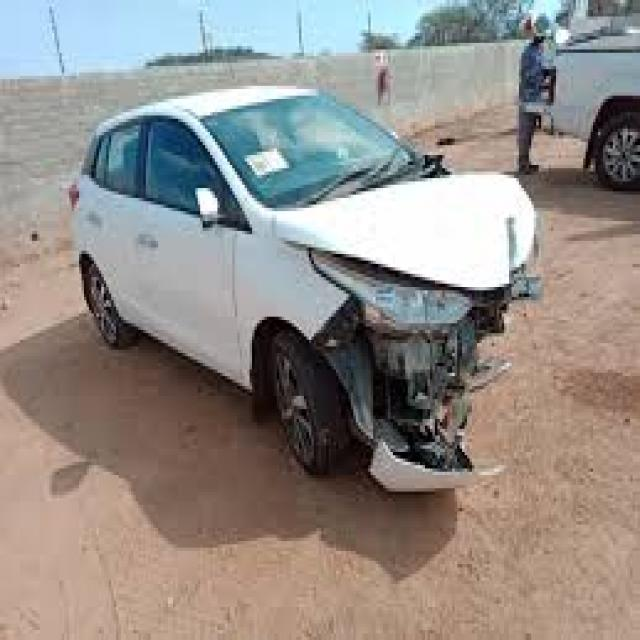severe: (246, 131, 593, 525)
